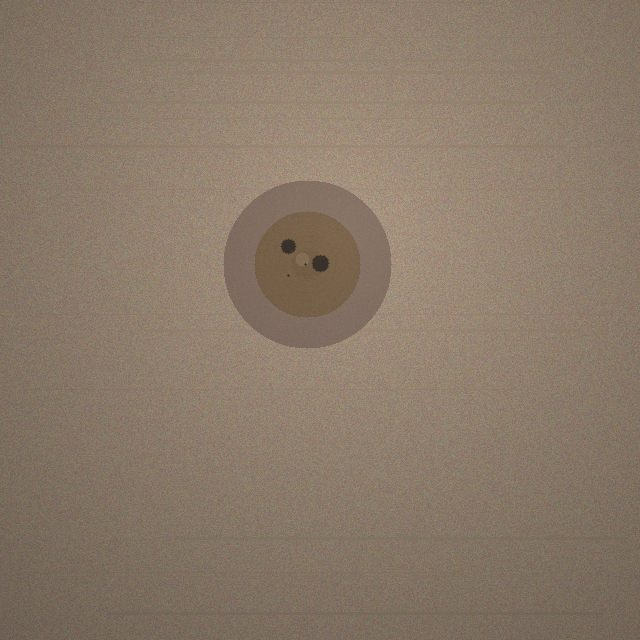shrinkage: (223, 180, 391, 348)
